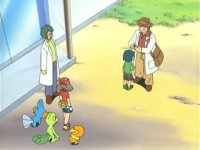mudkip: (22, 98, 47, 130)
